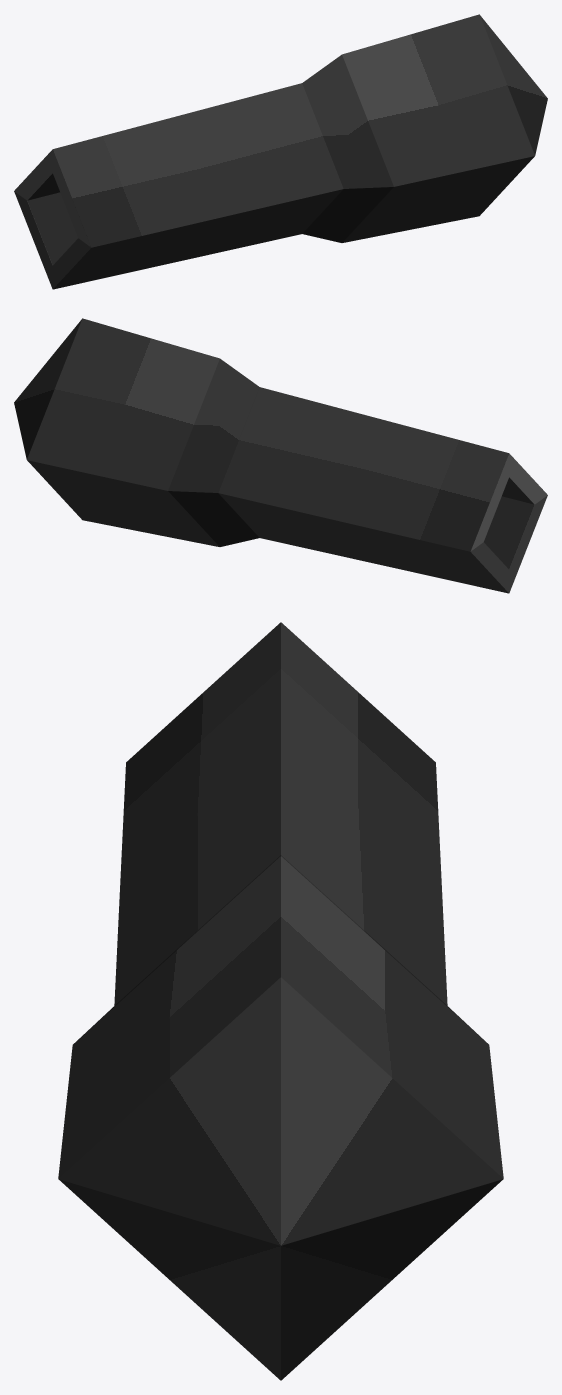
File: pirate_ship_cannononly.obj
The picture shows the model from 3 angles, top to bottom: view 1: azimuth 30°, elevation 25°; view 2: azimuth 150°, elevation 25°; view 3: azimuth 270°, elevation 25°; orthographic projection. The views are drawn at different scales.
Visible parts, largest first — view 1: polySurface1 pirate_ship:Mesh; view 2: polySurface1 pirate_ship:Mesh; view 3: polySurface1 pirate_ship:Mesh.
Boxes of the visible parts, x1,y1,x2,y2 form: polySurface1 pirate_ship:Mesh: (14, 14, 547, 289); polySurface1 pirate_ship:Mesh: (14, 318, 547, 593); polySurface1 pirate_ship:Mesh: (58, 622, 503, 1380).
Size of the model in its own units: 1.14 by 0.4429 by 0.4429.
1 material, 1 textured.
